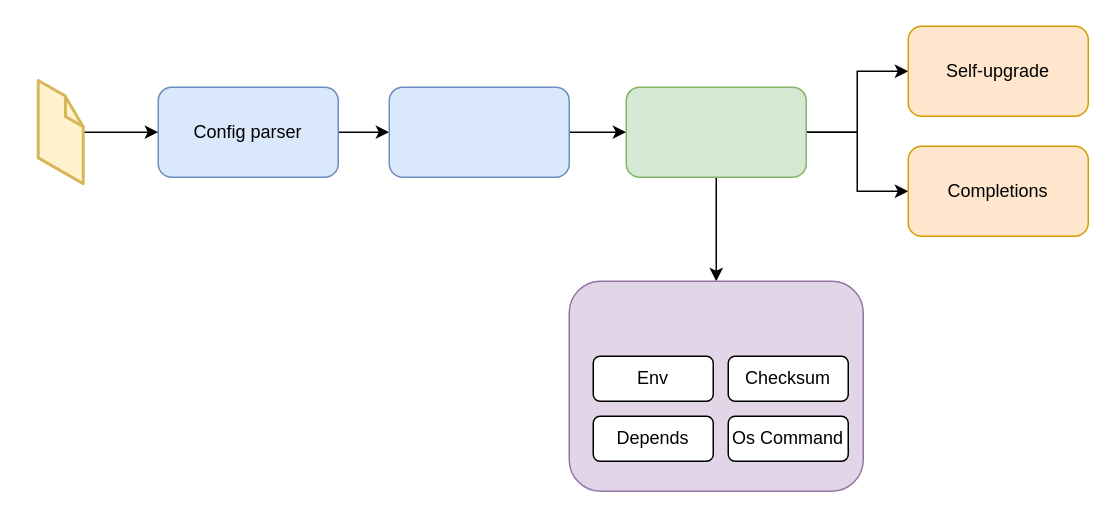
Image size: 1115x518. Some labels were removed from this diagram. Each missing label, with the box of its shape:
Cobra CLI Framework: (625, 86, 806, 177)
Command Runner: (568, 280, 863, 491)
Config validator: (388, 86, 569, 177)
lets.yaml: (37, 79, 83, 184)
